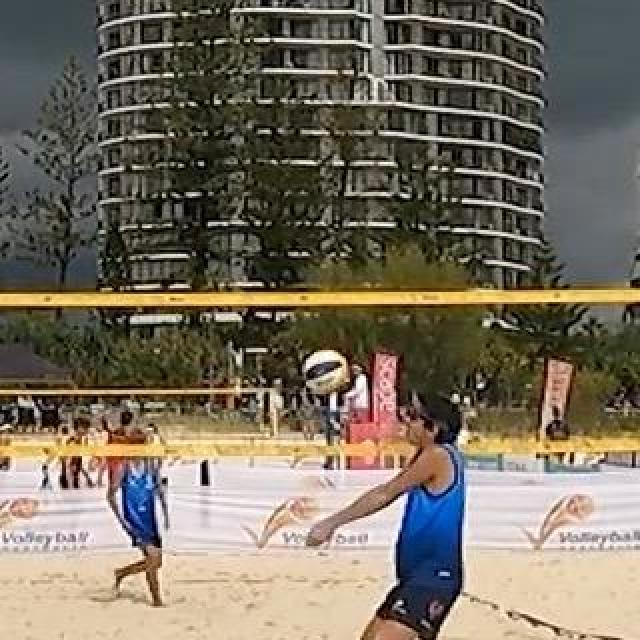volleyball: (302, 349, 350, 393)
